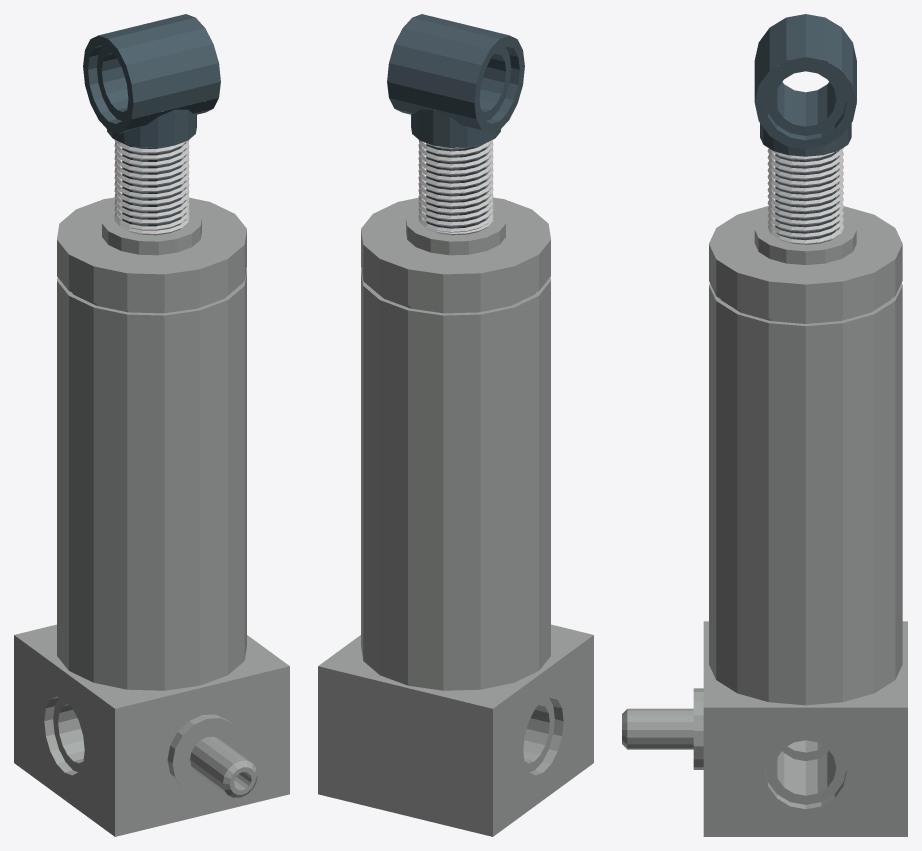
3 views of the same model, side by side, from view 1: azimuth 30°, elevation 25°; view 2: azimuth 150°, elevation 25°; view 3: azimuth 270°, elevation 25° (orthographic).
Visible parts, largest first — view 1: world; view 2: world; view 3: world.
Boxes of the visible parts, left/top/right/bottom form: world: left=14, top=14, right=289, bottom=836; world: left=318, top=14, right=593, bottom=836; world: left=622, top=14, right=907, bottom=836.
Size of the model in its own units: 0.016 by 0.0656 by 0.0224.
